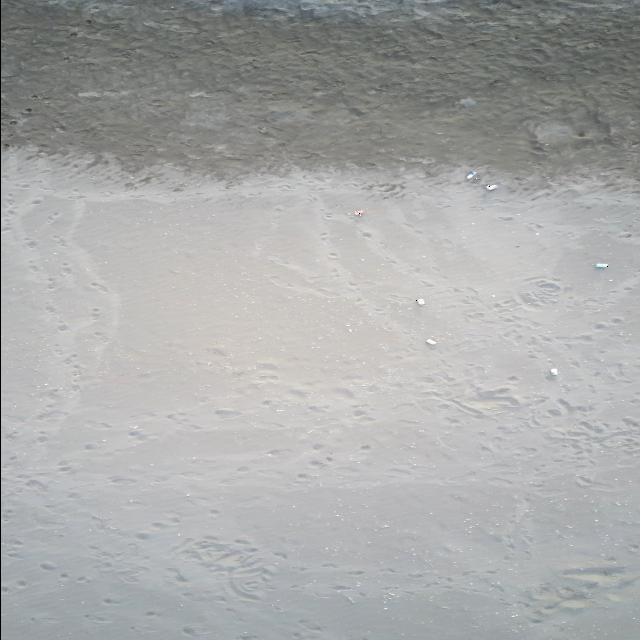Garbage: (459, 96, 475, 107), (464, 169, 477, 180), (484, 183, 496, 190), (424, 337, 435, 344), (548, 367, 557, 375), (353, 209, 363, 215), (595, 263, 607, 267), (416, 298, 424, 303)
